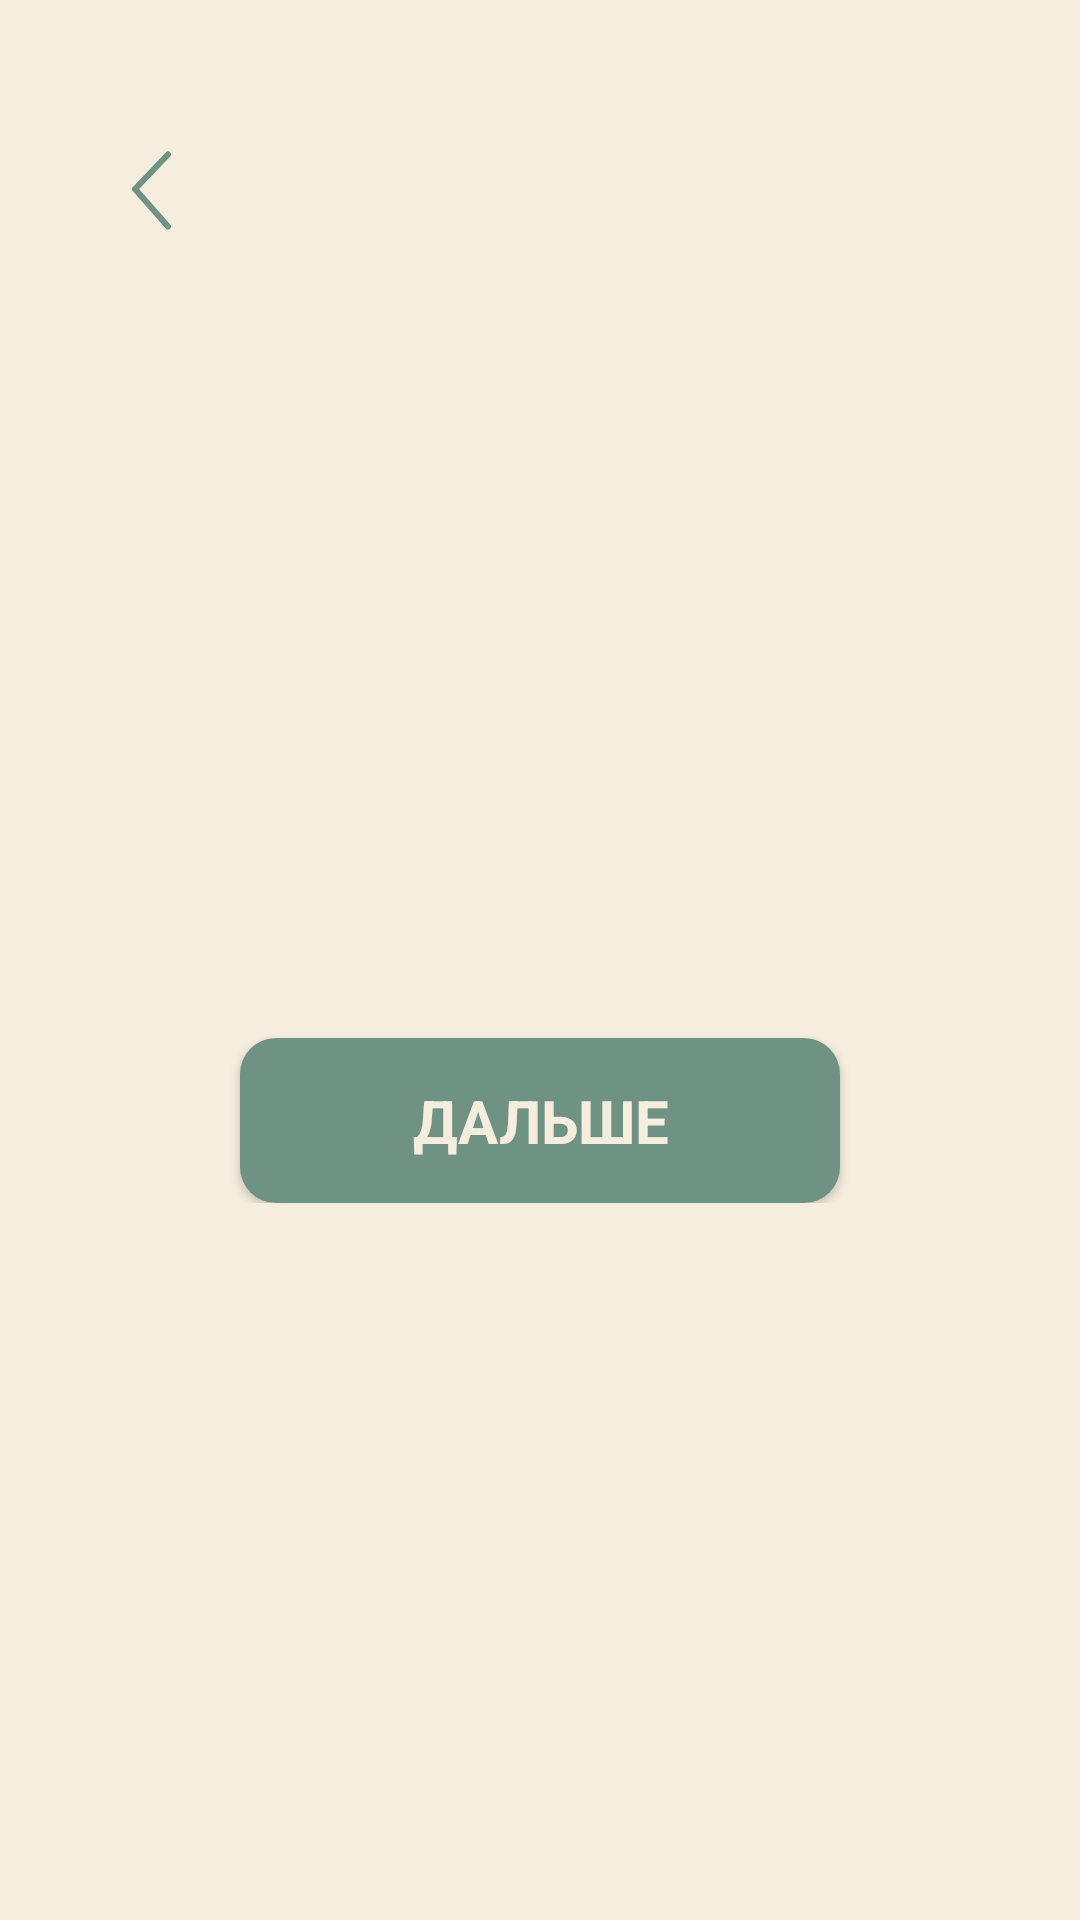

Icons on this 1080px x 1920px Android screen, each with the point to tap as point (x, y):
Back Button: point (151, 190)
